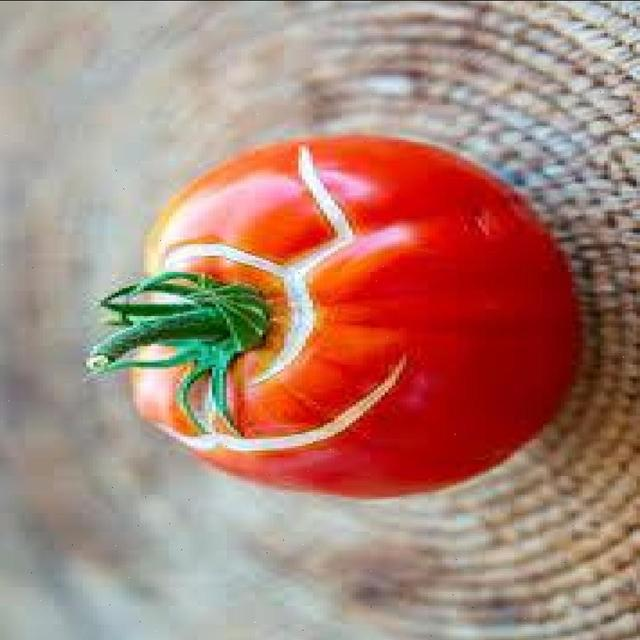Cracking Fruit: (148, 65, 183, 275)
